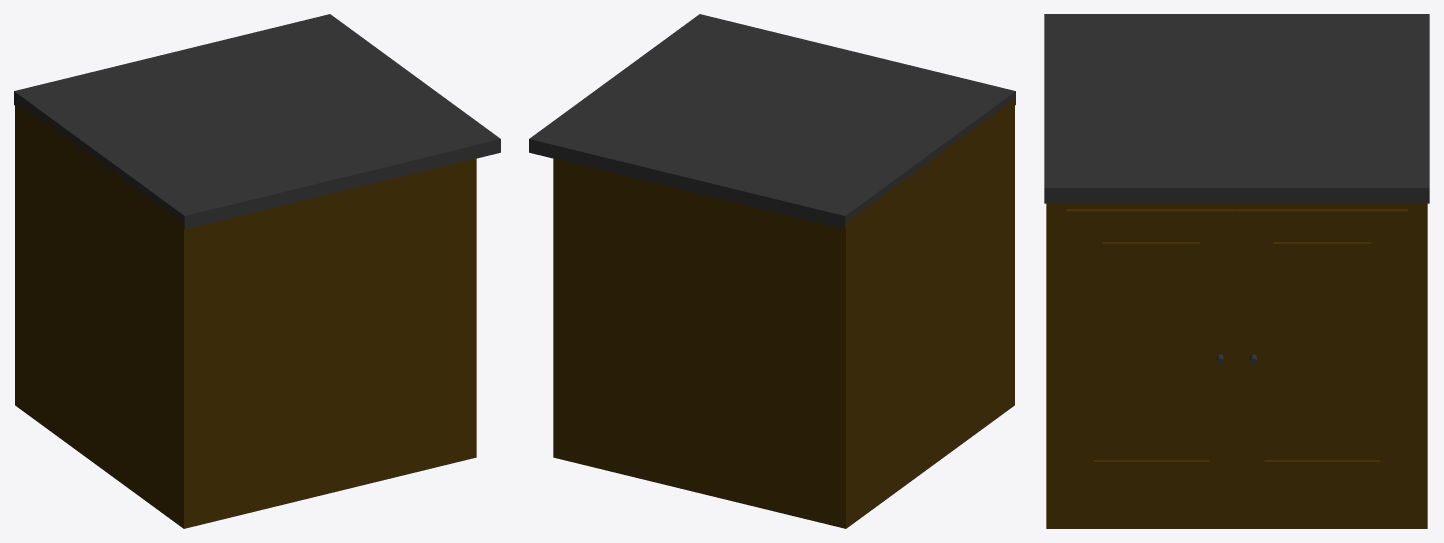
Rendered from counterTop.fbx.
The picture shows the model from 3 angles, left to right: view 1: azimuth 30°, elevation 25°; view 2: azimuth 150°, elevation 25°; view 3: azimuth 270°, elevation 25°; orthographic projection. The views are drawn at different scales.
Visible parts, largest first — view 1: pCube1, pCube2; view 2: pCube1, pCube2; view 3: polySurface3, pCube2, pCube1.
Part boxes in pixels (x1,y1,x2,y2): pCube1: (15,99,476,528); pCube2: (14,14,500,229); pCube1: (553,99,1014,528); pCube2: (529,14,1015,229); polySurface3: (1066,209,1407,486); pCube2: (1044,14,1429,203); pCube1: (1046,203,1427,528).
Size of the model in its own units: 4.54 by 4.3 by 4.24.
